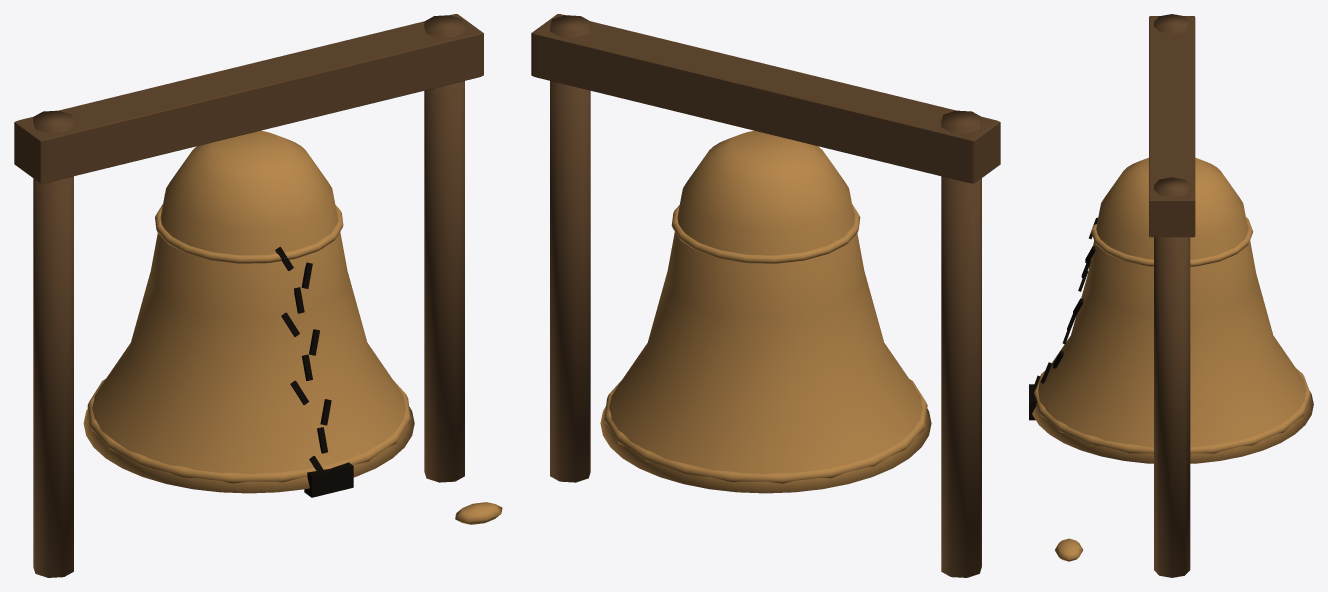
File: glocke_gesprungen.glb
The picture shows the model from 3 angles, left to right: view 1: azimuth 30°, elevation 25°; view 2: azimuth 150°, elevation 25°; view 3: azimuth 270°, elevation 25°; orthographic projection. The views are drawn at different scales.
Parts seen in each view (by area): view 1: d; view 2: d; view 3: d.
Part boxes in pixels (x1,y1,x2,y2): d: (14,14,502,577); d: (531,14,1000,577); d: (1029,14,1313,577).
Bounding box in the file's own units: 1.7 × 1.65 × 1.1.
